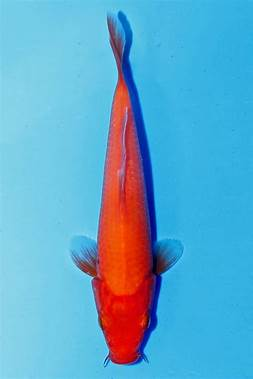red: (68, 11, 183, 365)
